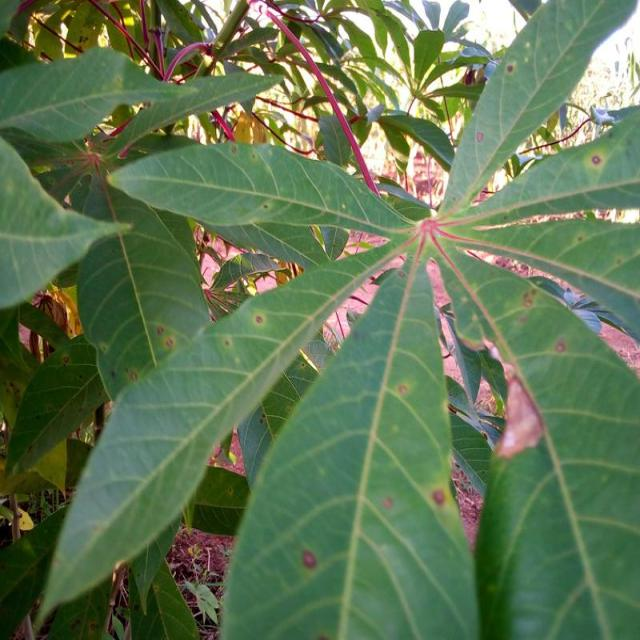cassava leaf: (10, 1, 638, 637), (32, 240, 410, 630), (218, 254, 480, 638), (436, 0, 636, 218)
